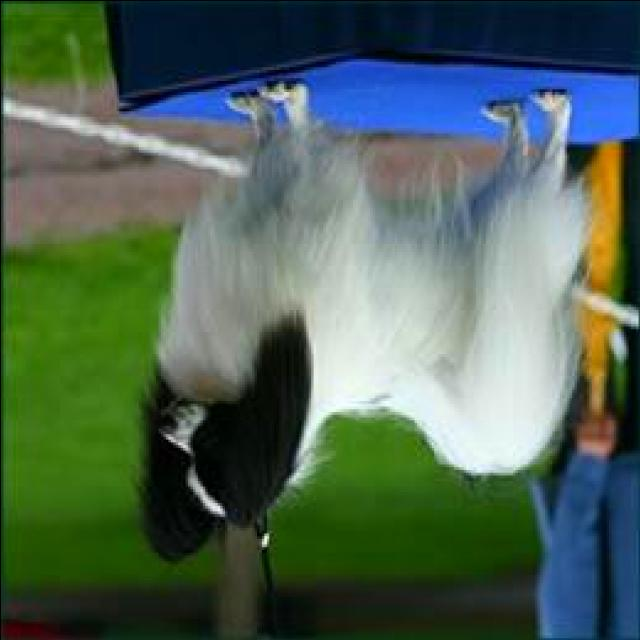papillon: (136, 77, 588, 566)
